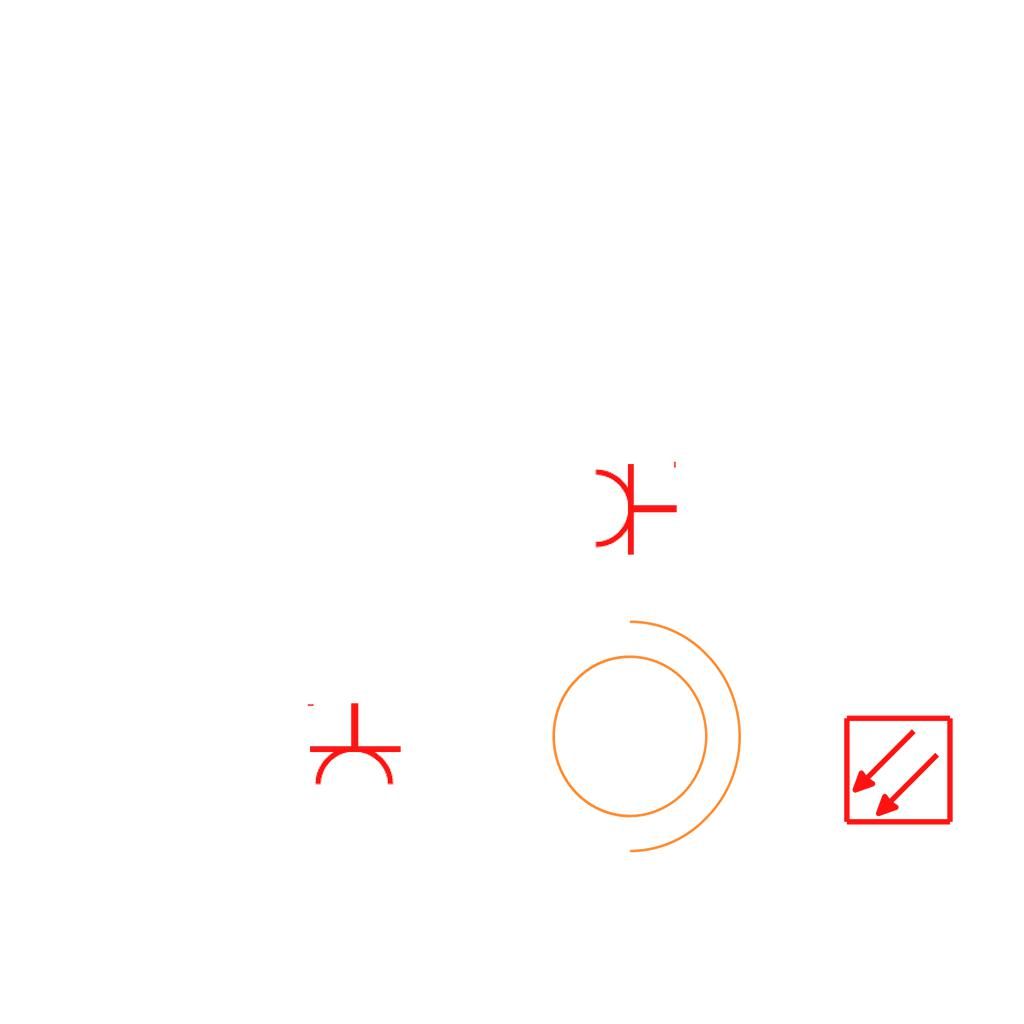RMO_Rauchmelder_optischer: (842, 714, 955, 827)
Scheinwerfer_fuer_Alarmbeleuchtung: (527, 598, 752, 862)
Schukosteckdose_einfach: (592, 457, 679, 557), (303, 701, 403, 788)
